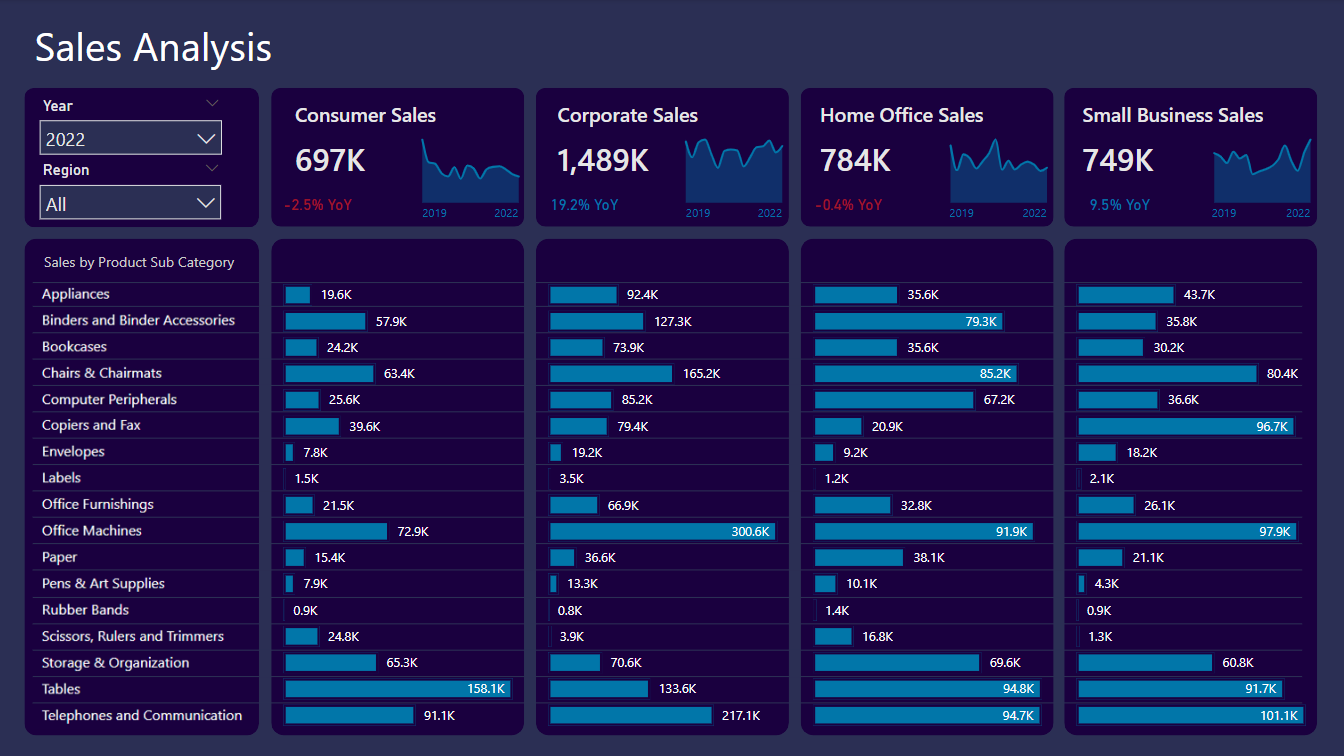

What the dashboard file says about the page in this screenshot:
{"tool":"powerbi","page":{"name":"Sales Analysis by Product and Segment","canvas":[1280,720],"ordinal":1},"visuals":[{"type":"shape","box":[25,83.8,222.5,132.5],"z":0},{"type":"shape","box":[25,227.5,222.5,471.2],"z":1000},{"type":"shape","box":[510,83.7,240,132],"z":2000},{"type":"shape","box":[761.5,83.8,240,132],"z":3000},{"type":"shape","box":[1011.5,84,240,132],"z":4000},{"type":"shape","box":[258.8,83.7,240,132],"z":5000},{"type":"cardVisual","fields":{"Data":["orders_cleaned.Total Sales Consumer","orders_cleaned.Total Sales Corporate","orders_cleaned.Total Sales Home Office","orders_cleaned.Total Sales Small Business"]},"box":[255.2,87.5,997.5,111.2],"z":6000},{"type":"slicer","fields":{"Values":["orders_cleaned.ORDER_YEAR"]},"box":[30,87.5,192.5,71.2],"z":7000},{"type":"areaChart","fields":{"Y":["orders_cleaned.Consumer Sales"],"Category":["orders_cleaned.ORDERDATE.Variation.Date Hierarchy.Year","orders_cleaned.ORDERDATE.Variation.Date Hierarchy.Quarter"]},"box":[387.5,118.8,121.4,80],"z":8000},{"type":"areaChart","fields":{"Category":["orders_cleaned.ORDERDATE.Variation.Date Hierarchy.Year","orders_cleaned.ORDERDATE.Variation.Date Hierarchy.Quarter"],"Y":["orders_cleaned.Corporate Sales"]},"box":[637.7,118.7,121.4,80],"z":9000},{"type":"areaChart","fields":{"Category":["orders_cleaned.ORDERDATE.Variation.Date Hierarchy.Year","orders_cleaned.ORDERDATE.Variation.Date Hierarchy.Quarter"],"Y":["orders_cleaned.Home Office Sales"]},"box":[888.2,118.8,121.4,80],"z":10000},{"type":"areaChart","fields":{"Category":["orders_cleaned.ORDERDATE.Variation.Date Hierarchy.Year","orders_cleaned.ORDERDATE.Variation.Date Hierarchy.Quarter"],"Y":["orders_cleaned.Small Business Sales"]},"box":[1138.7,119.1,121.4,80],"z":11000},{"type":"textbox","box":[398,187,49,33],"z":12000},{"type":"textbox","box":[466,187,46,34],"z":13000},{"type":"textbox","box":[647,187,51,33],"z":14000},{"type":"textbox","box":[715.8,187.2,42.5,32.5],"z":15000},{"type":"textbox","box":[898,187.2,42.5,32.5],"z":16000},{"type":"textbox","box":[966.7,187.2,42.5,32.5],"z":17000},{"type":"textbox","box":[1146.2,187.5,41.2,32.5],"z":18000},{"type":"textbox","box":[1216.2,187.5,43.8,28.8],"z":19000},{"type":"card","fields":{"Values":["orders_cleaned.% Sales YoY Change - Consumer"]},"box":[259.1,178,87.5,35],"z":20000},{"type":"card","fields":{"Values":["orders_cleaned.% Sales YoY Change - Corporate"]},"box":[512.3,178,87.5,35],"z":21000},{"type":"card","fields":{"Values":["orders_cleaned.% Sales YoY Change - Home Office"]},"box":[762,178.1,87.5,35],"z":22000},{"type":"card","fields":{"Values":["orders_cleaned.% Sales YoY Change - Small Business"]},"box":[1020.2,178.3,87.5,35],"z":23000},{"type":"shape","box":[258.8,227.5,240,471.2],"z":24000},{"type":"shape","box":[510,227.5,240,471.2],"z":25000},{"type":"shape","box":[761.2,227.5,240,471.2],"z":26000},{"type":"shape","box":[1011.2,227.5,240,471.2],"z":27000},{"type":"textbox","box":[30,13.8,833.7,68.7],"z":28000},{"type":"image","box":[28.9,262.2,220,435.6],"z":29000},{"type":"slicer","fields":{"Values":["orders_cleaned.REGION"]},"box":[30,148.9,192.2,71.1],"z":30000},{"type":"shape","box":[32.9,272,1203.8,40],"z":31000},{"type":"shape","box":[32.9,297,1203.8,40],"z":32000},{"type":"shape","box":[32.9,322,1203.8,40],"z":33000},{"type":"shape","box":[32.9,347,1203.8,40],"z":34000},{"type":"shape","box":[32.9,372,1203.8,40],"z":35000},{"type":"shape","box":[32.9,447,1203.8,40],"z":36000},{"type":"shape","box":[32.9,397,1203.8,40],"z":37000},{"type":"shape","box":[32.9,472,1203.8,40],"z":38000},{"type":"shape","box":[32.9,497,1203.8,40],"z":39000},{"type":"shape","box":[32.9,522,1203.8,40],"z":40000},{"type":"shape","box":[32.9,547,1203.8,40],"z":41000},{"type":"shape","box":[32.9,572,1203.8,40],"z":42000},{"type":"shape","box":[32.9,597,1203.8,40],"z":43000},{"type":"shape","box":[32.9,622,1203.8,40],"z":44000},{"type":"shape","box":[32.9,647,1203.8,40],"z":45000},{"type":"shape","box":[32.9,422,1203.8,40],"z":46000},{"type":"barChart","fields":{"Y":["orders_cleaned.Consumer Sales"],"Category":["ProductSubcategoryTable.ProductSubcategory"]},"box":[266.1,257.8,227,436.3],"z":47000},{"type":"barChart","fields":{"Y":["orders_cleaned.Corporate Sales"],"Category":["ProductSubcategoryTable.ProductSubcategory"]},"box":[516.8,257.8,227,436.3],"z":48000},{"type":"barChart","fields":{"Y":["orders_cleaned.Home Office Sales"],"Category":["ProductSubcategoryTable.ProductSubcategory"]},"box":[767.4,257.8,227,436.3],"z":49000},{"type":"barChart","fields":{"Y":["orders_cleaned.Small Business Sales"],"Category":["ProductSubcategoryTable.ProductSubcategory"]},"box":[1018.1,257.8,227,436.3],"z":50000},{"type":"shape","box":[33.1,248.3,1203.8,40.2],"z":51000},{"type":"textbox","box":[38.9,235.6,220,33.3],"z":52000}]}

Visuals, with their boxes in screenshot pixels (x1, y1, x2, y2), scaled from the page's 1280x720 canvas onto the 1344x756 screenshot:
shape: (26,88,260,227)
shape: (26,239,260,734)
shape: (536,88,788,226)
shape: (800,88,1052,227)
shape: (1062,88,1314,227)
shape: (272,88,524,226)
cardVisual - orders_cleaned.Total Sales Consumer x orders_cleaned.Total Sales Corporate: (268,92,1315,209)
slicer - orders_cleaned.ORDER_YEAR: (32,92,234,167)
areaChart - orders_cleaned.Consumer Sales x orders_cleaned.ORDERDATE.Variation.Date Hierarchy.Year: (407,125,534,209)
areaChart - orders_cleaned.ORDERDATE.Variation.Date Hierarchy.Year x orders_cleaned.ORDERDATE.Variation.Date Hierarchy.Quarter: (670,125,797,209)
areaChart - orders_cleaned.ORDERDATE.Variation.Date Hierarchy.Year x orders_cleaned.ORDERDATE.Variation.Date Hierarchy.Quarter: (933,125,1060,209)
areaChart - orders_cleaned.ORDERDATE.Variation.Date Hierarchy.Year x orders_cleaned.ORDERDATE.Variation.Date Hierarchy.Quarter: (1196,125,1323,209)
textbox: (418,196,469,231)
textbox: (489,196,538,232)
textbox: (679,196,733,231)
textbox: (752,197,796,231)
textbox: (943,197,988,231)
textbox: (1015,197,1060,231)
textbox: (1204,197,1247,231)
textbox: (1277,197,1323,227)
card - orders_cleaned.% Sales YoY Change - Consumer: (272,187,364,224)
card - orders_cleaned.% Sales YoY Change - Corporate: (538,187,630,224)
card - orders_cleaned.% Sales YoY Change - Home Office: (800,187,892,224)
card - orders_cleaned.% Sales YoY Change - Small Business: (1071,187,1163,224)
shape: (272,239,524,734)
shape: (536,239,788,734)
shape: (799,239,1051,734)
shape: (1062,239,1314,734)
textbox: (32,14,907,87)
image: (30,275,261,733)
slicer - orders_cleaned.REGION: (32,156,233,231)
shape: (35,286,1299,328)
shape: (35,312,1299,354)
shape: (35,338,1299,380)
shape: (35,364,1299,406)
shape: (35,391,1299,433)
shape: (35,469,1299,511)
shape: (35,417,1299,459)
shape: (35,496,1299,538)
shape: (35,522,1299,564)
shape: (35,548,1299,590)
shape: (35,574,1299,616)
shape: (35,601,1299,643)
shape: (35,627,1299,669)
shape: (35,653,1299,695)
shape: (35,679,1299,721)
shape: (35,443,1299,485)
barChart - orders_cleaned.Consumer Sales x ProductSubcategoryTable.ProductSubcategory: (279,271,518,729)
barChart - orders_cleaned.Corporate Sales x ProductSubcategoryTable.ProductSubcategory: (543,271,781,729)
barChart - orders_cleaned.Home Office Sales x ProductSubcategoryTable.ProductSubcategory: (806,271,1044,729)
barChart - orders_cleaned.Small Business Sales x ProductSubcategoryTable.ProductSubcategory: (1069,271,1307,729)
shape: (35,261,1299,303)
textbox: (41,247,272,282)
